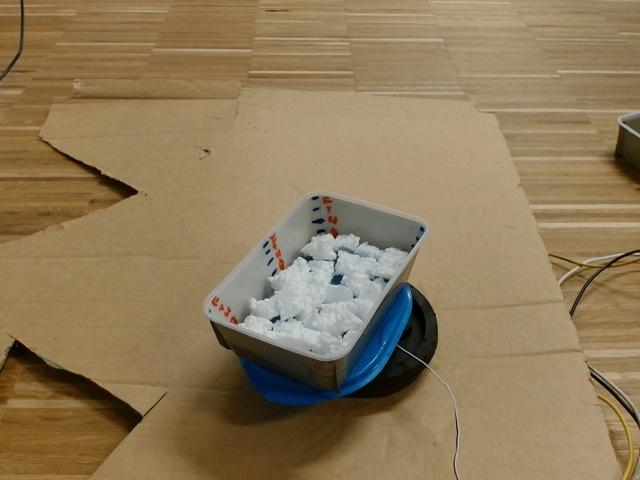Small_quarter: (204, 193, 426, 360)
